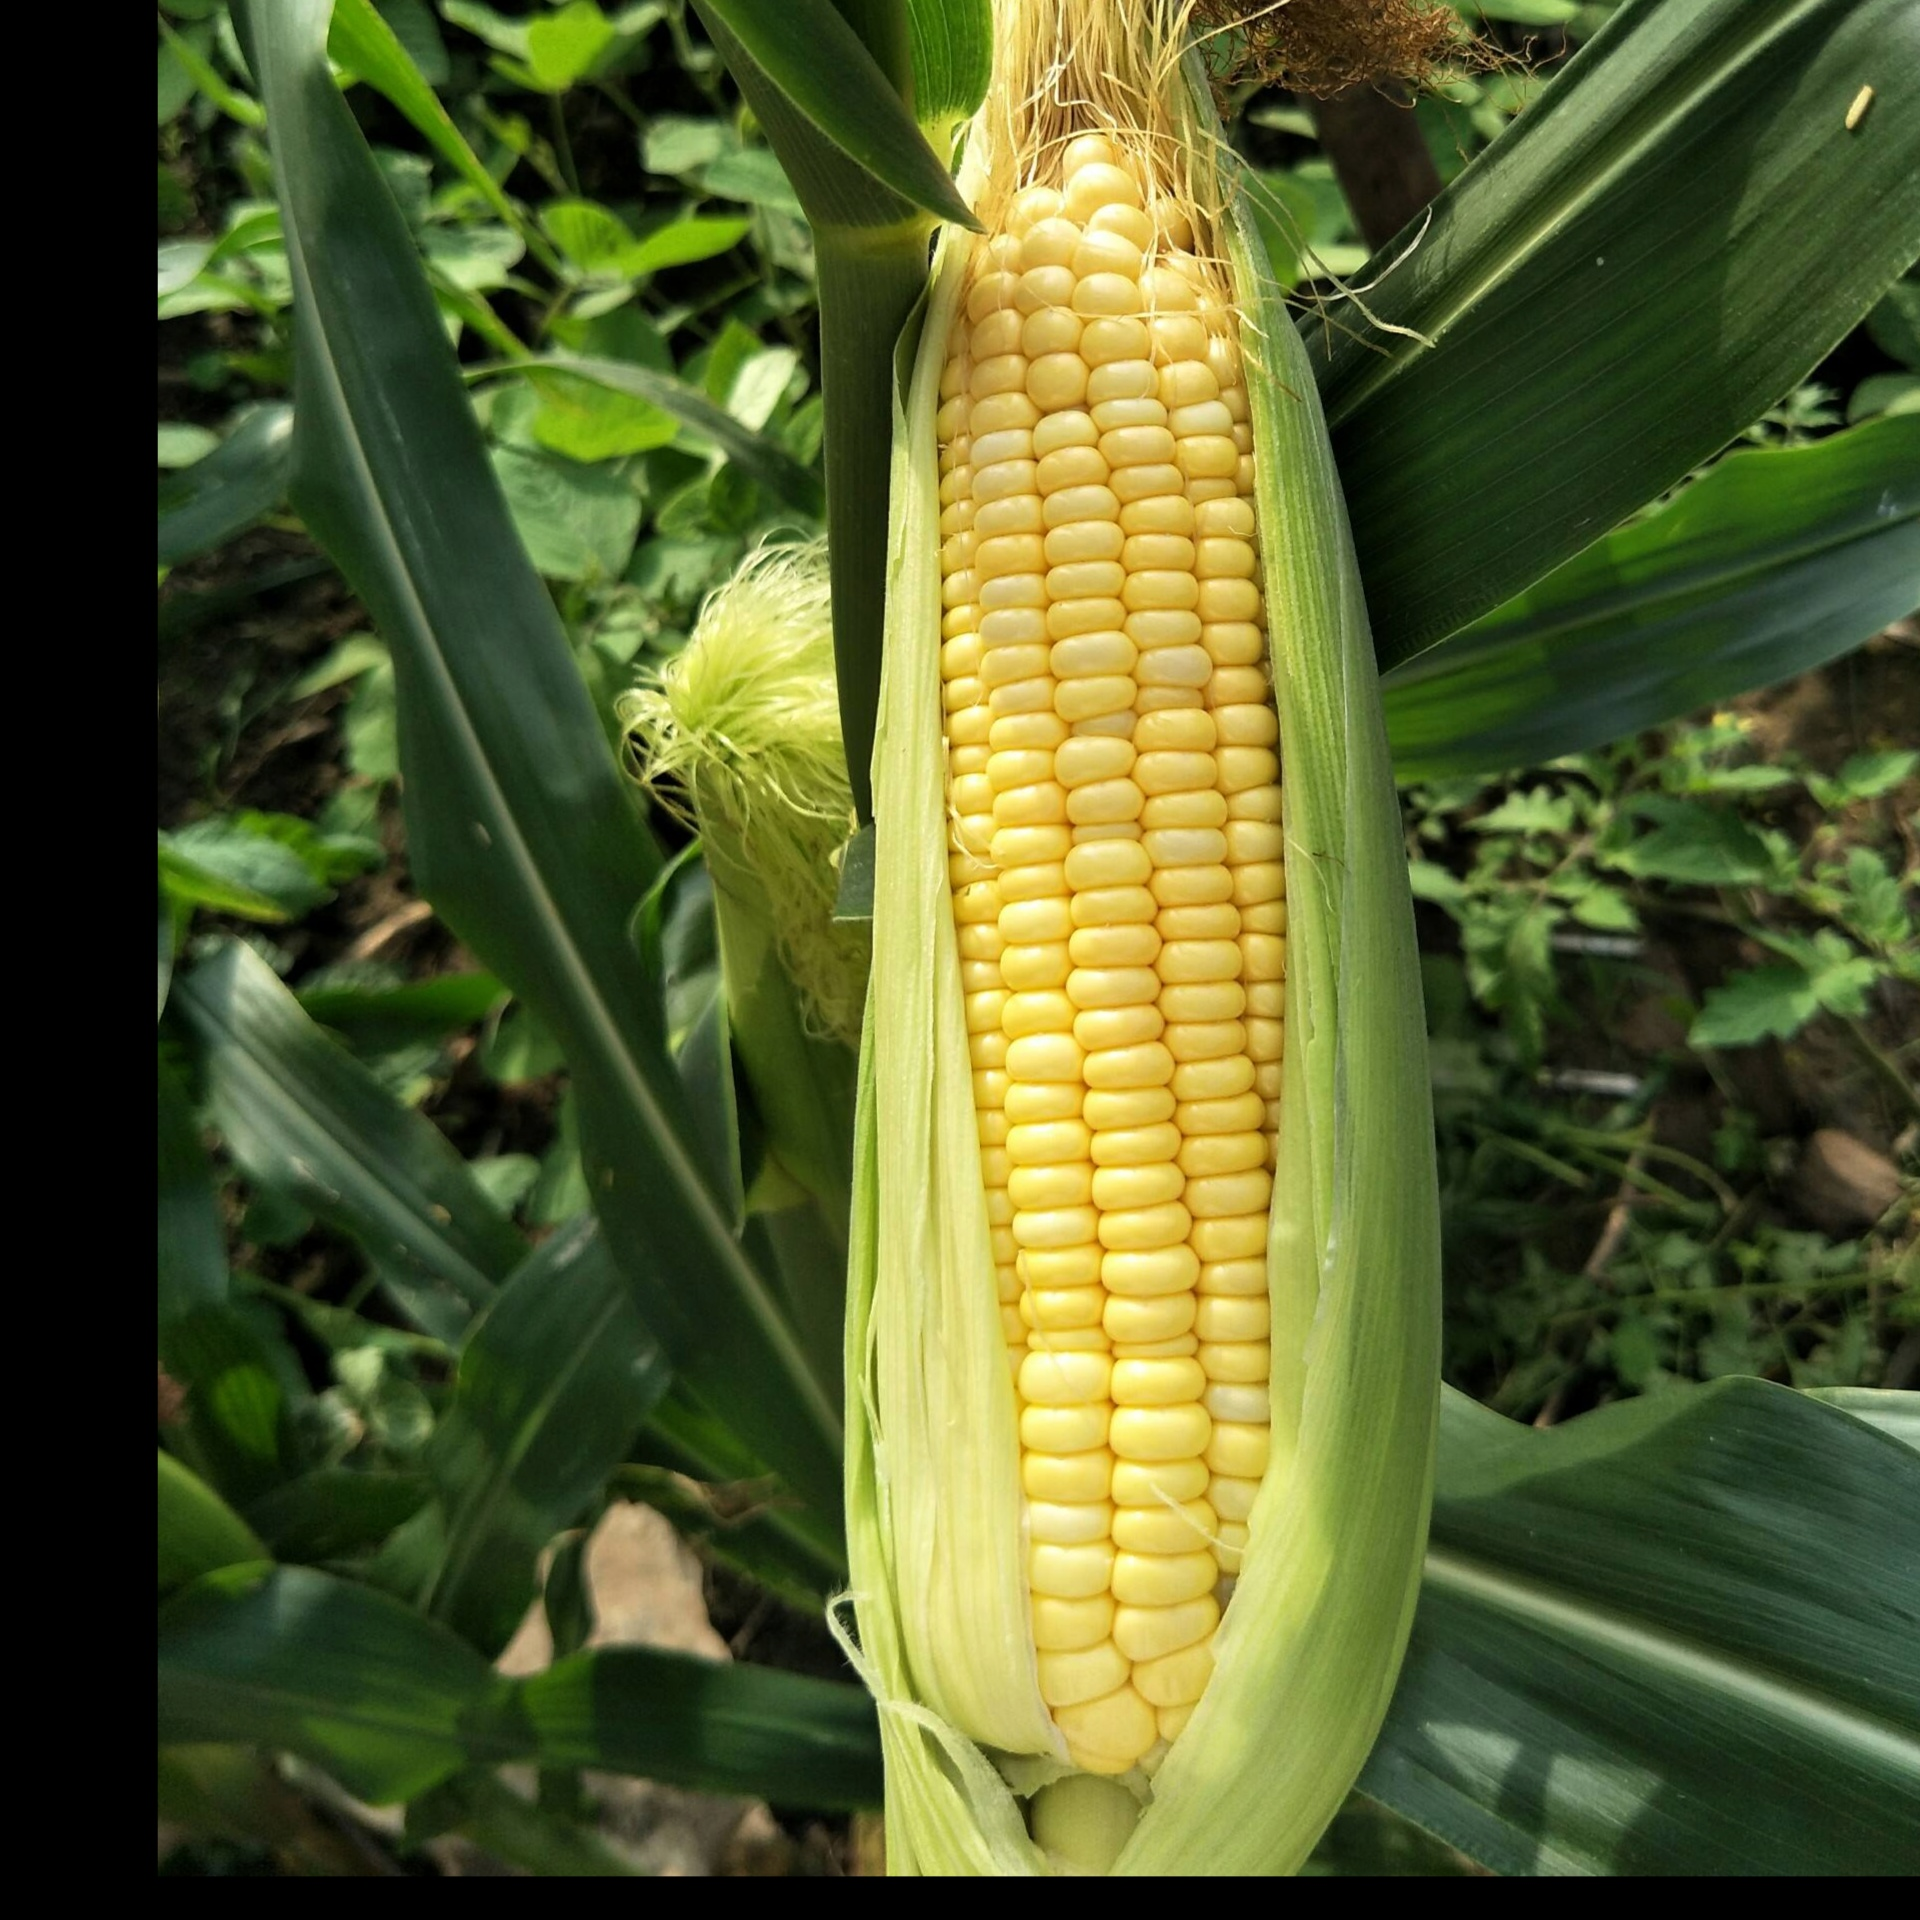corn: (849, 104, 1438, 1876)
